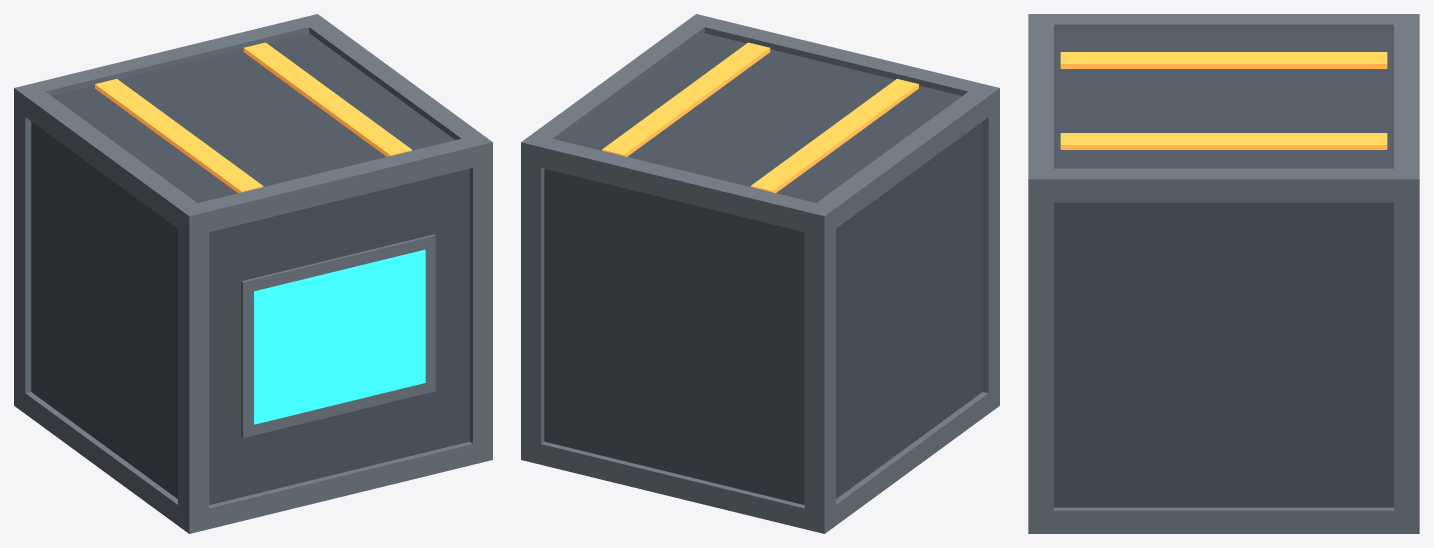
File: crate.glb
3 renders of one model, left to right at view 1: azimuth 30°, elevation 25°; view 2: azimuth 150°, elevation 25°; view 3: azimuth 270°, elevation 25°, orthographic. The views are drawn at different scales.
Parts seen in each view (by area): view 1: CrateBody, CratePanelCyan, CrateFrameX_10, CrateFrameZ_00, CratePanelFrame, CrateFrameX_00, CrateFrameZ_10, CrateFrameY_01, CrateFrameZ_01, CrateFrameX_11, CrateFrameY_00, CrateFrameY_11 (+2 smaller); view 2: CrateBody, CrateFrameX_11, CrateFrameZ_01, CrateFrameX_01, CrateFrameZ_11, CrateFrameY_01, CrateFrameX_10, CrateFrameZ_00, CrateFrameY_00, CrateFrameY_11, CrateLidStripeL, CrateLidStripeR; view 3: CrateBody, CrateFrameY_11, CrateFrameY_10, CrateFrameZ_11, CrateFrameZ_10, CrateFrameY_01, CrateLidStripeL, CrateLidStripeR, CrateFrameX_10, CrateFrameX_11.
Part boxes in pixels (<box>): CrateBody: <box>31,33,469,504</box>; CratePanelCyan: <box>254,249,425,424</box>; CrateFrameX_10: <box>179,135,492,236</box>; CrateFrameZ_00: <box>178,208,209,533</box>; CratePanelFrame: <box>241,234,435,437</box>; CrateFrameX_00: <box>189,439,492,533</box>; CrateFrameZ_10: <box>469,142,492,459</box>; CrateFrameY_01: <box>14,88,200,236</box>; CrateFrameZ_01: <box>14,88,31,413</box>; CrateFrameX_11: <box>15,14,328,95</box>; CrateFrameY_00: <box>14,385,189,533</box>; CrateFrameY_11: <box>298,14,491,142</box>; CrateBody: <box>544,33,982,504</box>; CrateFrameX_11: <box>521,135,834,236</box>; CrateFrameZ_01: <box>804,210,835,533</box>; CrateFrameX_01: <box>521,439,824,533</box>; CrateFrameZ_11: <box>521,142,544,459</box>; CrateFrameY_01: <box>810,88,999,236</box>; CrateFrameX_10: <box>686,14,998,95</box>; CrateFrameZ_00: <box>982,88,999,405</box>; CrateFrameY_00: <box>824,385,999,533</box>; CrateFrameY_11: <box>522,14,715,141</box>; CrateLidStripeL: <box>750,79,918,192</box>; CrateLidStripeR: <box>602,42,770,156</box>; CrateBody: <box>1054,31,1393,507</box>; CrateFrameY_11: <box>1028,168,1419,202</box>; CrateFrameY_10: <box>1028,507,1418,533</box>; CrateFrameZ_11: <box>1394,179,1419,533</box>; CrateFrameZ_10: <box>1028,179,1053,533</box>; CrateFrameY_01: <box>1029,14,1419,31</box>; CrateLidStripeL: <box>1060,52,1387,68</box>; CrateLidStripeR: <box>1060,133,1387,149</box>; CrateFrameX_10: <box>1028,14,1053,179</box>; CrateFrameX_11: <box>1394,14,1419,179</box>.
Bounding box in the file's own units: 1.1 × 1.1 × 1.1.
